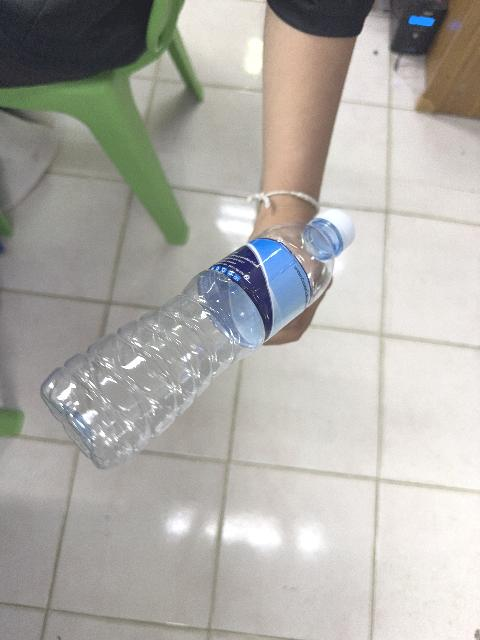bottle: (41, 210, 353, 469)
